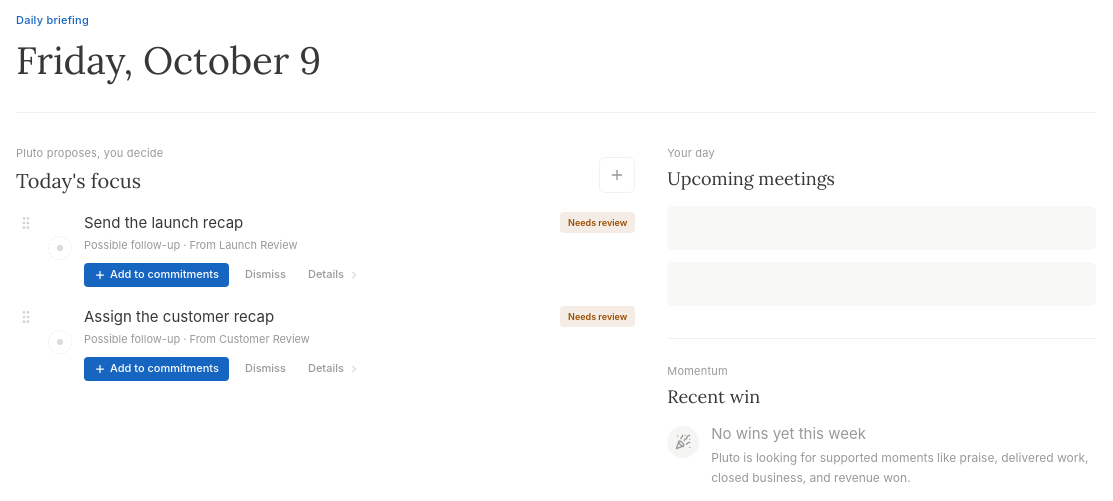
Test: Dashboard interactions › shows compact review controls for each focused possible item
Later steps or results of the test are not shown.
Click the button with aria-label "Review suggestion: Send the launch recap".
click(334, 274)  # box x1=302 y1=262 x2=366 y2=286
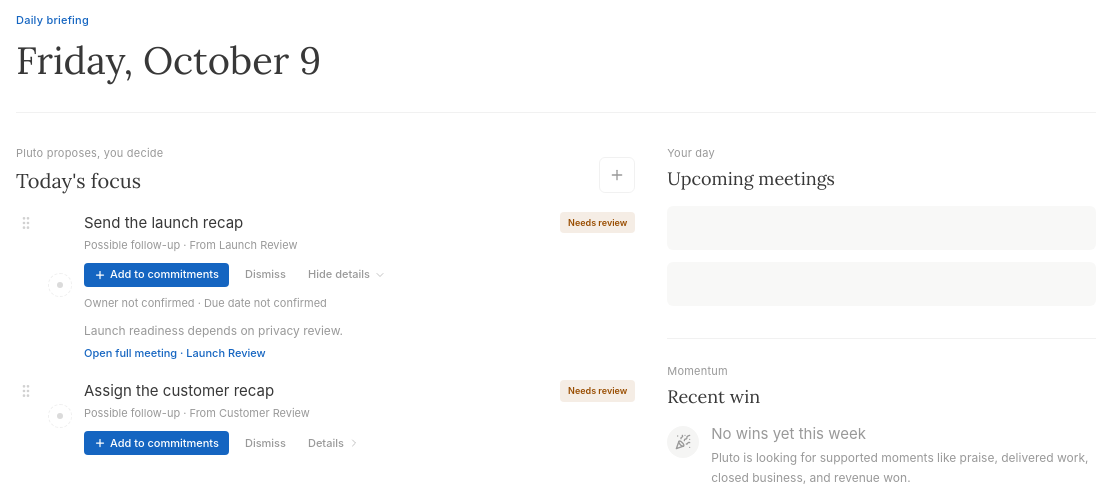
Now the button with aria-label "Review suggestion: Send the launch recap" is expanded, box x1=302 y1=262 x2=392 y2=286
Now the text "Launch readiness depends on privacy review." is shown, box x1=84 y1=322 x2=343 y2=338
Now the button with aria-label "Open source meeting for Send the launch recap" shows "Open full meeting", box x1=84 y1=344 x2=266 y2=361
